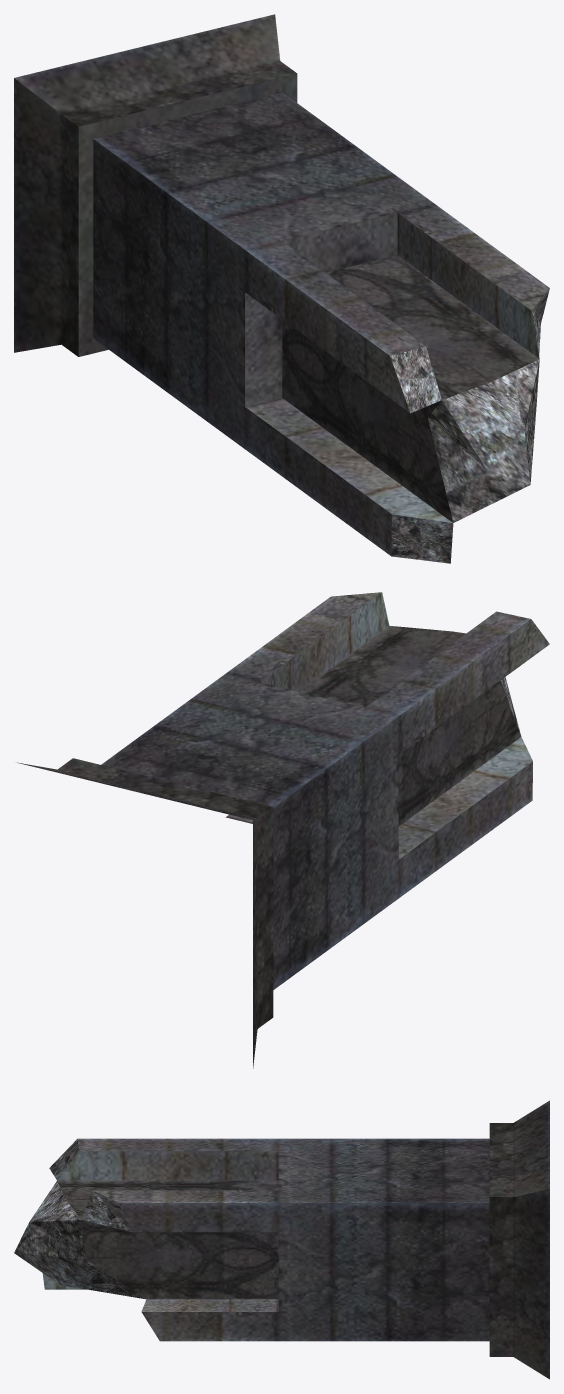
3 views of the same model, one above another, from view 1: azimuth 30°, elevation 25°; view 2: azimuth 150°, elevation 25°; view 3: azimuth 270°, elevation 25° (orthographic). The views are drawn at different scales.
Visible parts, largest first — view 1: model_Object29; view 2: model_Object29; view 3: model_Object29.
Part boxes in pixels (<box>): model_Object29: <box>14,14,549,563</box>; model_Object29: <box>17,592,549,1068</box>; model_Object29: <box>14,1100,549,1379</box>.
Size of the model in its own units: 1.17 by 1.18 by 2.99.
Materials: 2 (2 with a texture image).
